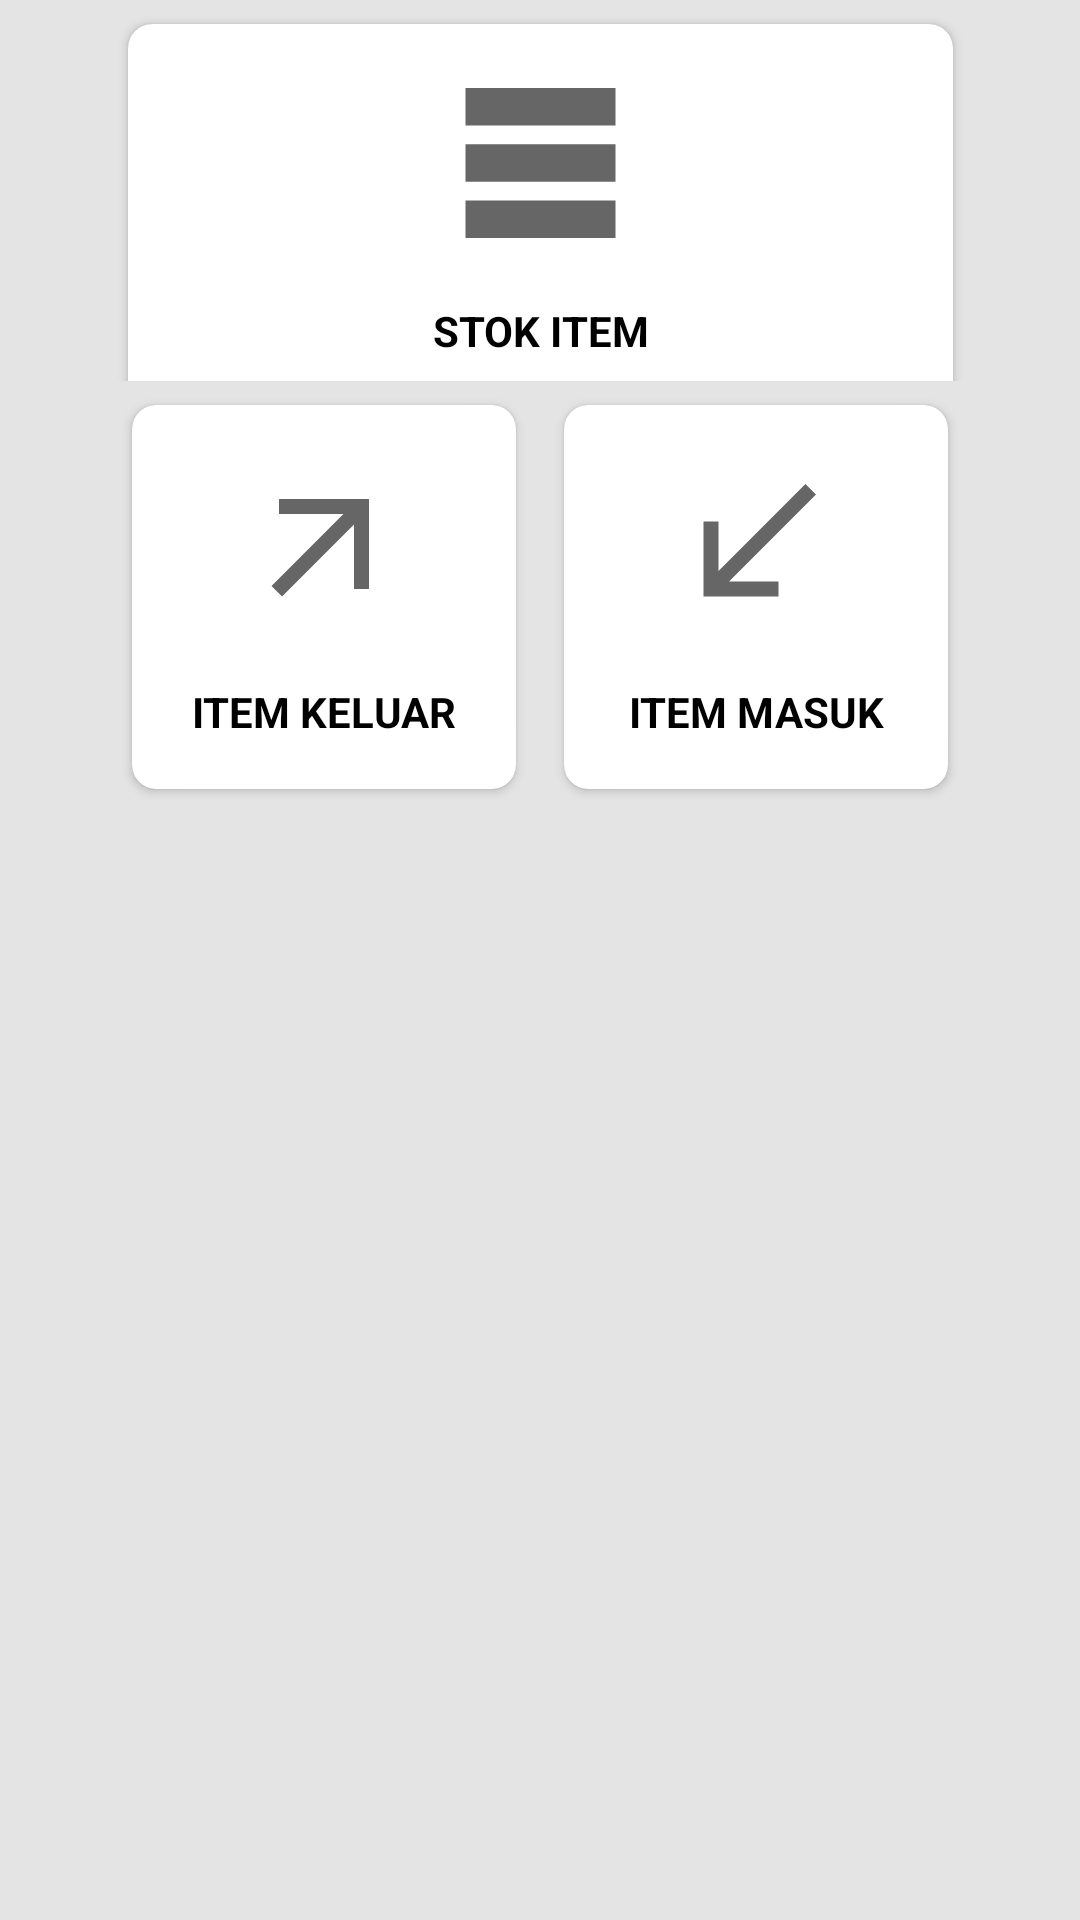

Locate icon controls on the screen. Image size 1080px×1920px, boxes as {"left": x1, "top": y1, "right": x2, "bottom": y2}.
data in: {"left": 703, "top": 484, "right": 816, "bottom": 597}
data out: {"left": 272, "top": 499, "right": 369, "bottom": 596}
